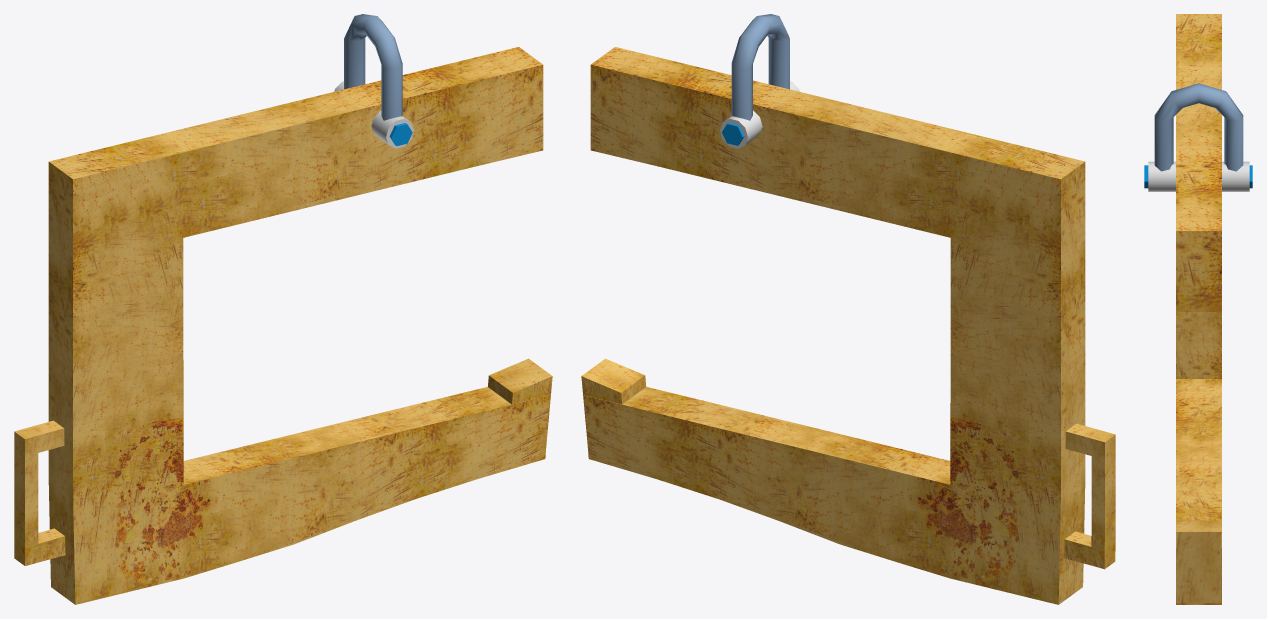
The model's file is GanchoCRecto.fbx.
The picture shows the model from 3 angles, left to right: view 1: azimuth 30°, elevation 25°; view 2: azimuth 150°, elevation 25°; view 3: azimuth 270°, elevation 25°; orthographic projection. The views are drawn at different scales.
Parts seen in each view (by area): view 1: pCube91, pTorus1, pCylinder22; view 2: pCube91, pTorus1, pCylinder22; view 3: pCube91, pTorus1, pCylinder22, pCylinder23.
Boxes of the visible parts, box(x1,y1,x2,y2) form: pCube91: box(14, 47, 552, 604); pTorus1: box(344, 14, 402, 120); pCylinder22: box(334, 81, 413, 148); pCube91: box(581, 47, 1115, 604); pTorus1: box(731, 14, 789, 120); pCylinder22: box(720, 81, 799, 148); pCube91: box(1176, 14, 1221, 604); pTorus1: box(1154, 83, 1243, 171); pCylinder22: box(1148, 161, 1249, 191); pCylinder23: box(1144, 165, 1252, 188).
Bounding box in the file's own units: 270 × 250 × 51.68.
Materials: 4 (1 with a texture image).
